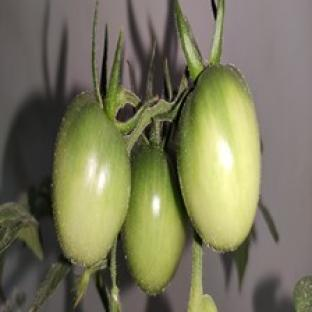Tomato: (177, 66, 260, 252), (53, 94, 130, 266), (123, 147, 186, 293)
